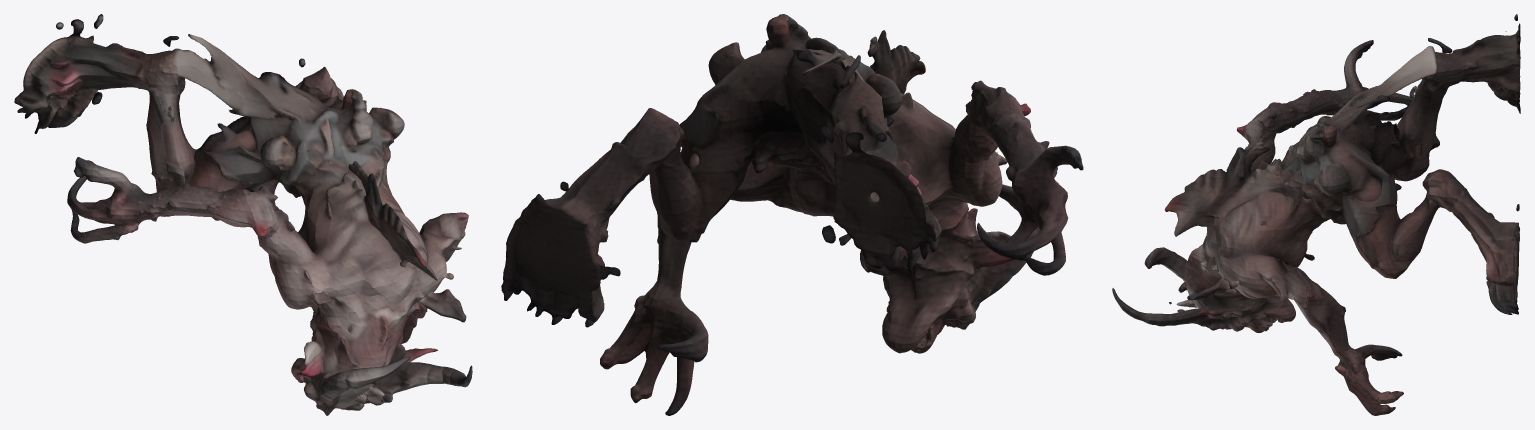
File: ashling-initial.glb
3 renders of one model, left to right at view 1: azimuth 30°, elevation 25°; view 2: azimuth 150°, elevation 25°; view 3: azimuth 270°, elevation 25°, orthographic. The views are drawn at different scales.
Visible parts, largest first — view 1: geometry_0; view 2: geometry_0; view 3: geometry_0.
Boxes of the visible parts, x1,y1,x2,y2 form: geometry_0: [14, 14, 472, 415]; geometry_0: [501, 14, 1083, 415]; geometry_0: [1112, 14, 1520, 415].
Size of the model in its own units: 0.9007 by 0.8068 by 0.9992.
